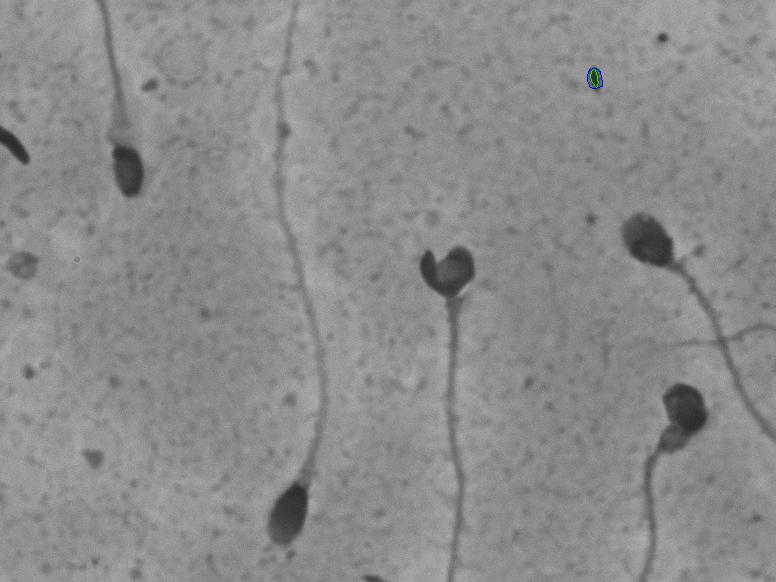Abnormal: (411, 229, 505, 560), (584, 165, 747, 341), (604, 372, 739, 563), (68, 36, 172, 217)
Normal: (239, 2, 379, 555)
